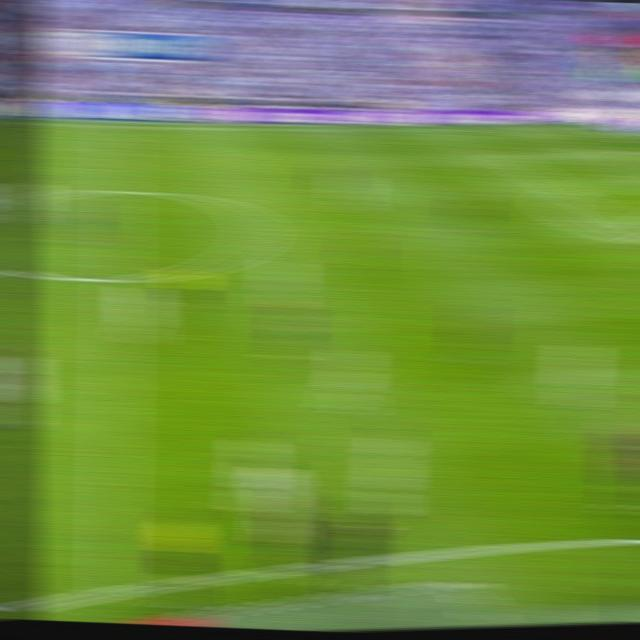halfcircle_bottom: (101, 267, 134, 290)
halfcircle_top: (103, 181, 133, 199)
midline_bottom_intersection: (94, 573, 130, 603)
midline_top_intersection: (104, 119, 134, 132)
top_arc_area_intersection: (551, 182, 581, 198)
